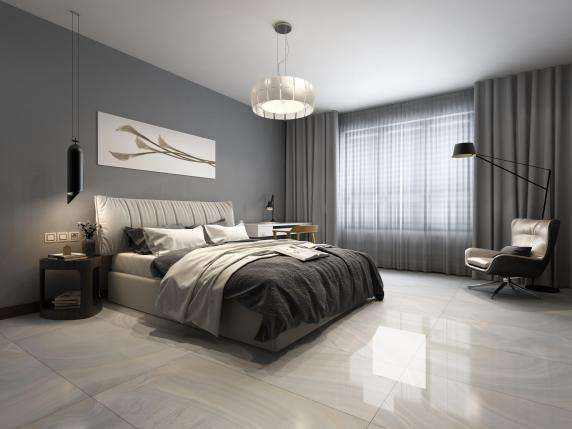床: (109, 237, 379, 351)
枕头: (122, 221, 249, 258)
灯: (446, 131, 553, 217), (248, 25, 323, 127), (61, 5, 86, 202), (261, 193, 280, 224)
